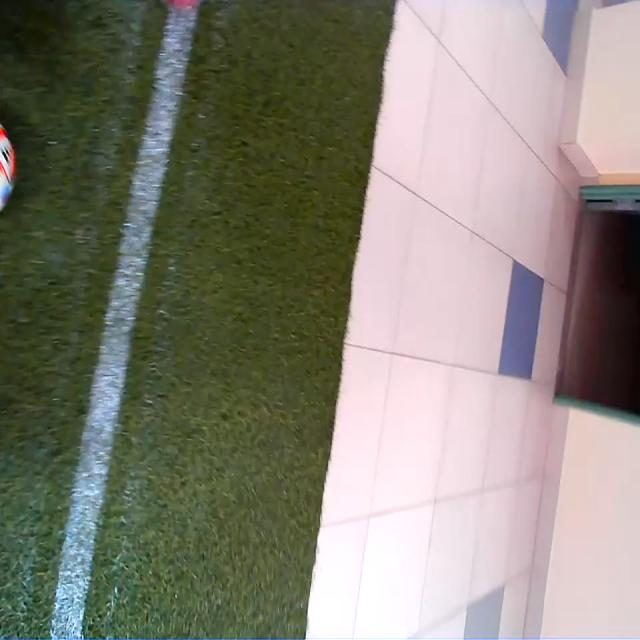ball: (2, 128, 16, 208)
